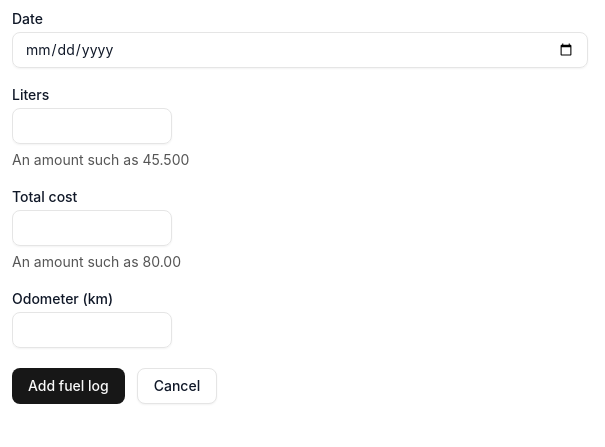
Test case: FuelForm › shows field errors with aria wiring and keeps echoed values
In the field labelled "Liters": (92, 126) [12,108,172,144], type "0"
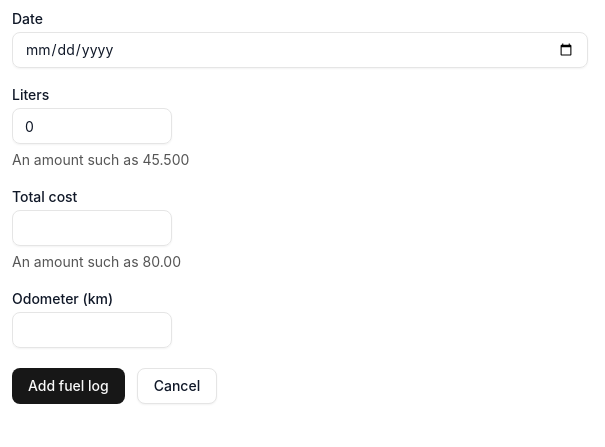
Submit the form
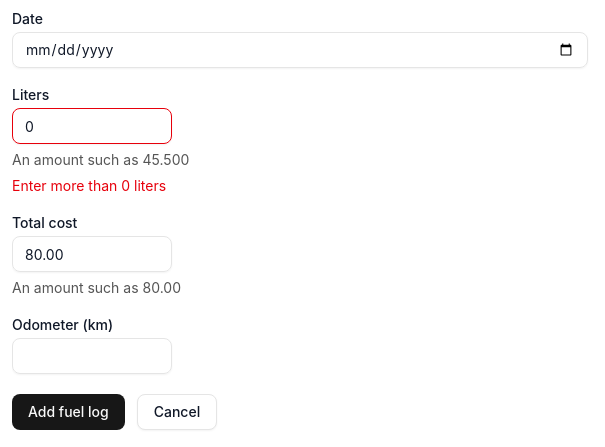
Check: the field labelled "Total cost" holds "80.00", box [12,236,172,272]
